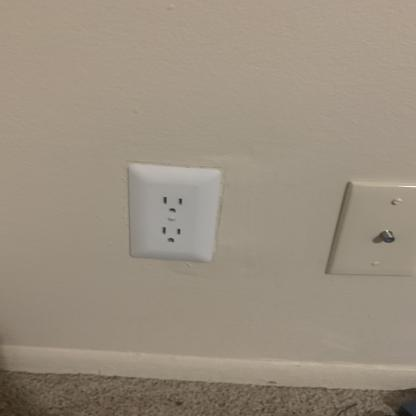OUTLET: (128, 162, 218, 262)
